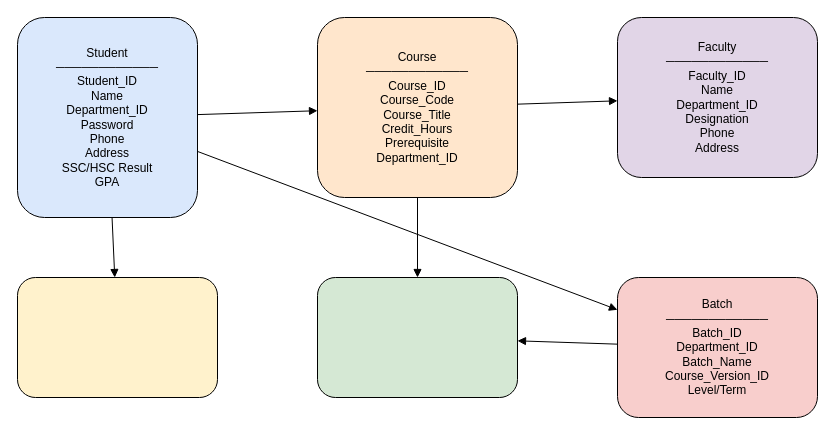
The diagram is 835 pixels wide and 435 high, and some of its shapes have lost their labels. Each missing label, with the centre of its shape:
"Department ──────────── Department_ID Name Credit_Transferred_Student" belongs at point 417,337.
"Trimester ──────────── Trimester_ID Name Total_Credit_Hours SGPA" belongs at point 117,337.
